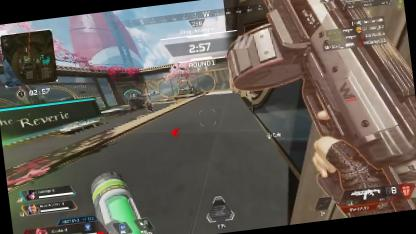Target: (142, 98, 154, 112)
